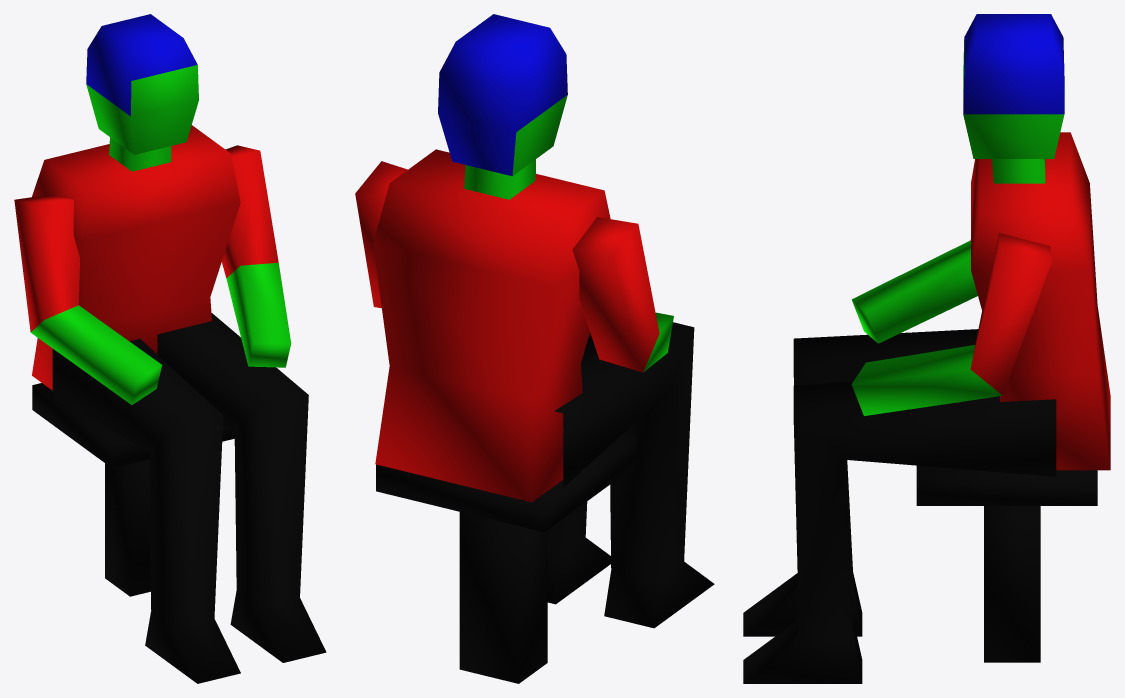
Rendered from crowdA.glb.
The picture shows the model from 3 angles, left to right: view 1: azimuth 30°, elevation 25°; view 2: azimuth 150°, elevation 25°; view 3: azimuth 270°, elevation 25°; orthographic projection. The views are drawn at different scales.
Parts seen in each view (by area): view 1: crowdA; view 2: crowdA; view 3: crowdA.
Part boxes in pixels (bbox=[...]): crowdA: bbox=[14, 14, 326, 683]; crowdA: bbox=[355, 14, 714, 683]; crowdA: bbox=[743, 14, 1110, 683].
Bounding box in the file's own units: 0.591 × 1.32 × 0.71.
